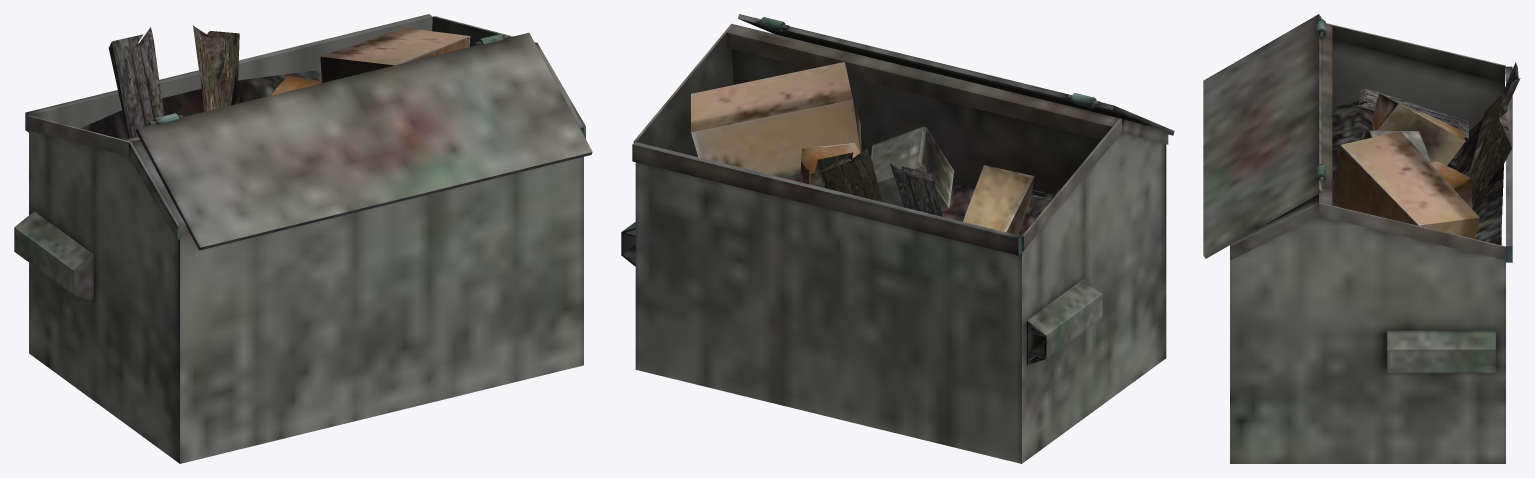
Rendered from dumpster_374.glb.
The picture shows the model from 3 angles, left to right: view 1: azimuth 30°, elevation 25°; view 2: azimuth 150°, elevation 25°; view 3: azimuth 270°, elevation 25°; orthographic projection. The views are drawn at different scales.
Visible parts, largest first — view 1: dumpster_374; view 2: dumpster_374; view 3: dumpster_374.
Boxes of the visible parts, x1,y1,x2,y2 form: dumpster_374: [14, 14, 592, 463]; dumpster_374: [621, 14, 1174, 463]; dumpster_374: [1203, 14, 1520, 463].
Size of the model in its own units: 2 by 1.3 by 1.36.
Materials: 1 (1 with a texture image).
